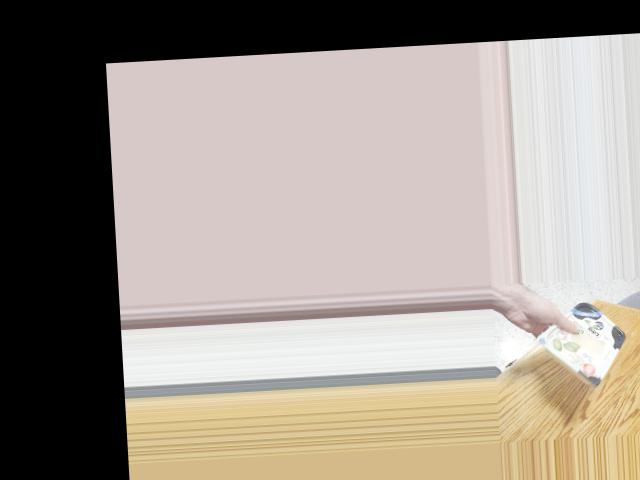cheese: (542, 311, 626, 376)
